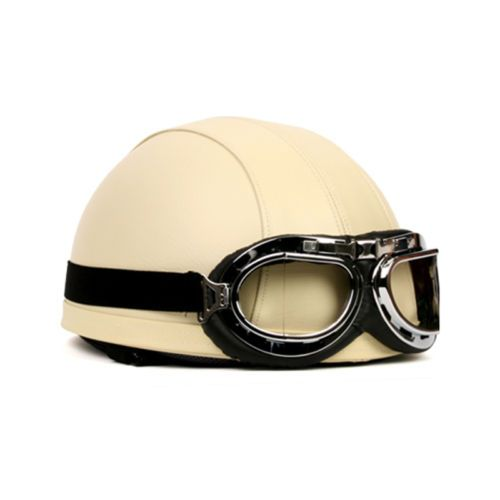with_helmet: (60, 113, 455, 370)
